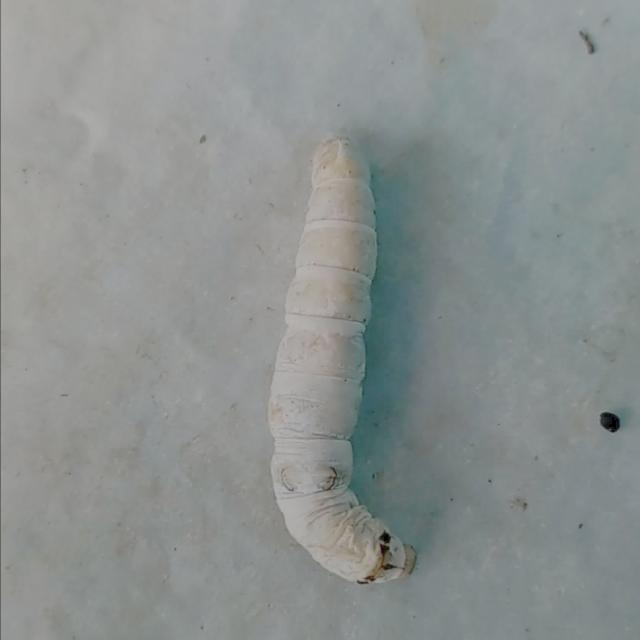Grasserie: (217, 109, 442, 606)
